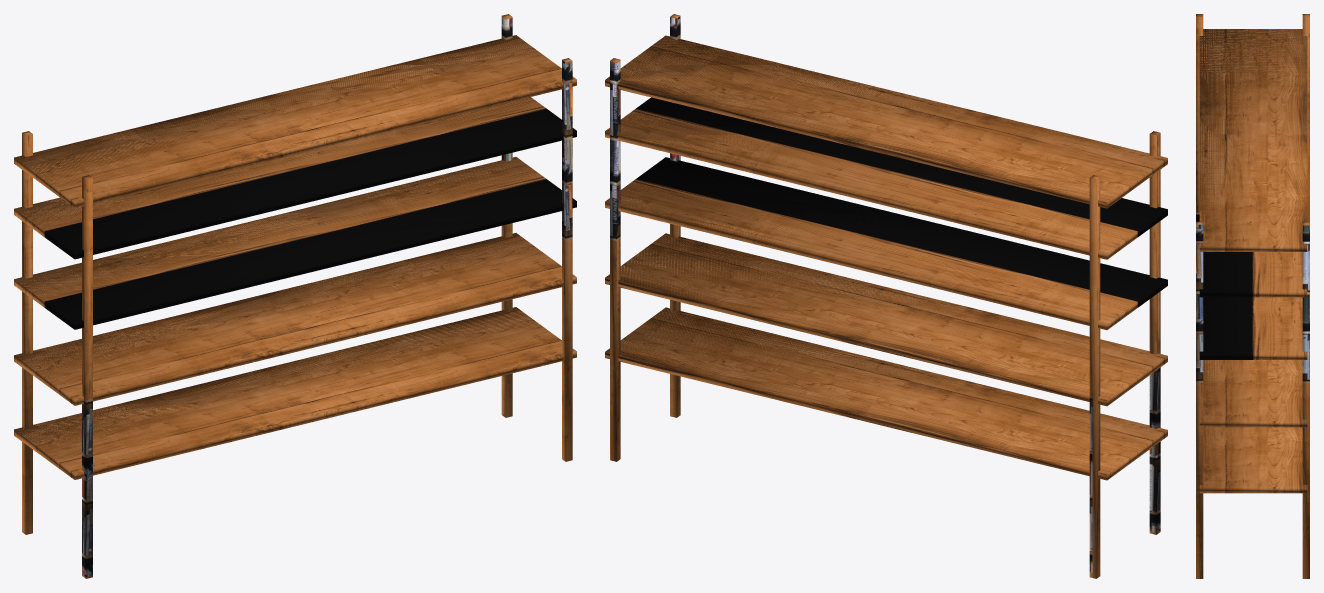
Rendered from Shelf2.fbx.
3 views of the same model, side by side, from view 1: azimuth 30°, elevation 25°; view 2: azimuth 150°, elevation 25°; view 3: azimuth 270°, elevation 25° (orthographic). The views are drawn at different scales.
Visible parts, largest first — view 1: Shelf; view 2: Shelf; view 3: Shelf.
Part boxes in pixels (x1,y1,x2,y2): Shelf: (14,14,576,578); Shelf: (605,14,1167,578); Shelf: (1196,14,1309,578).
Bounding box in the file's own units: 14422 × 10962 × 3188.
